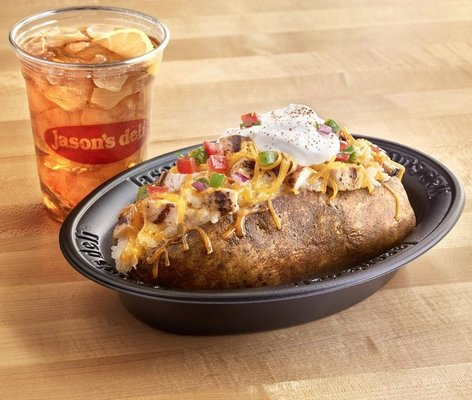sushi: (56, 98, 457, 336)
